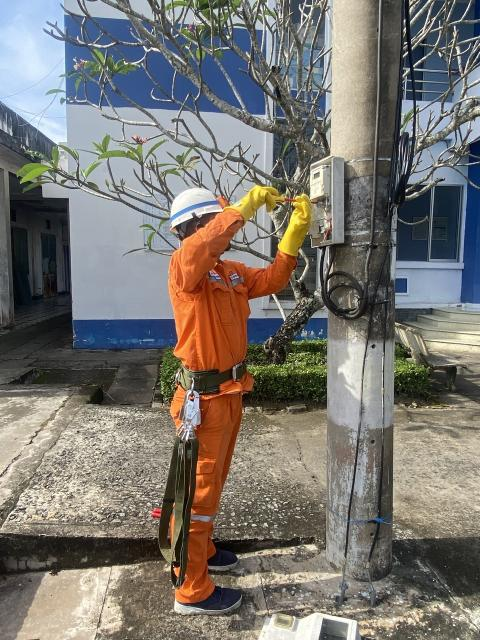gloves: (261, 184, 321, 260), (223, 176, 300, 231)
harness: (152, 366, 265, 407)
helmet: (171, 184, 235, 237)
shoes: (154, 571, 252, 622), (171, 531, 243, 576)
